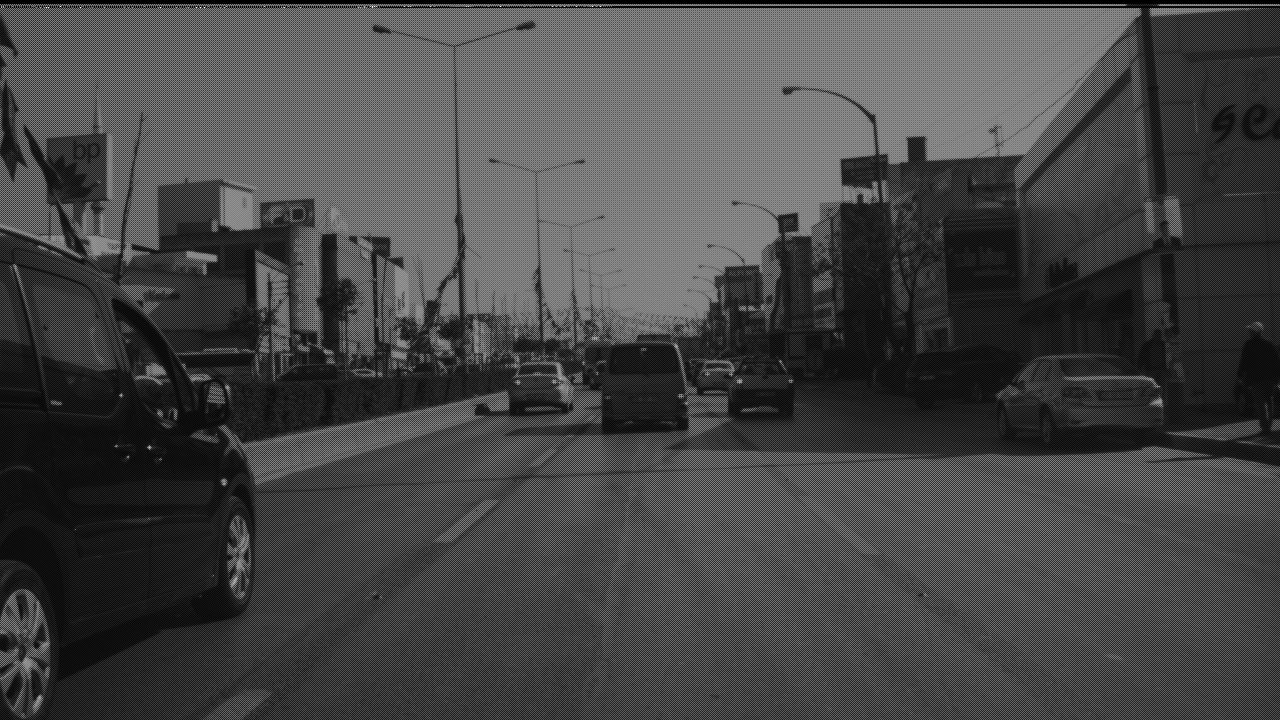pole: (1138, 1, 1185, 417), (451, 40, 468, 365), (533, 165, 545, 348)
